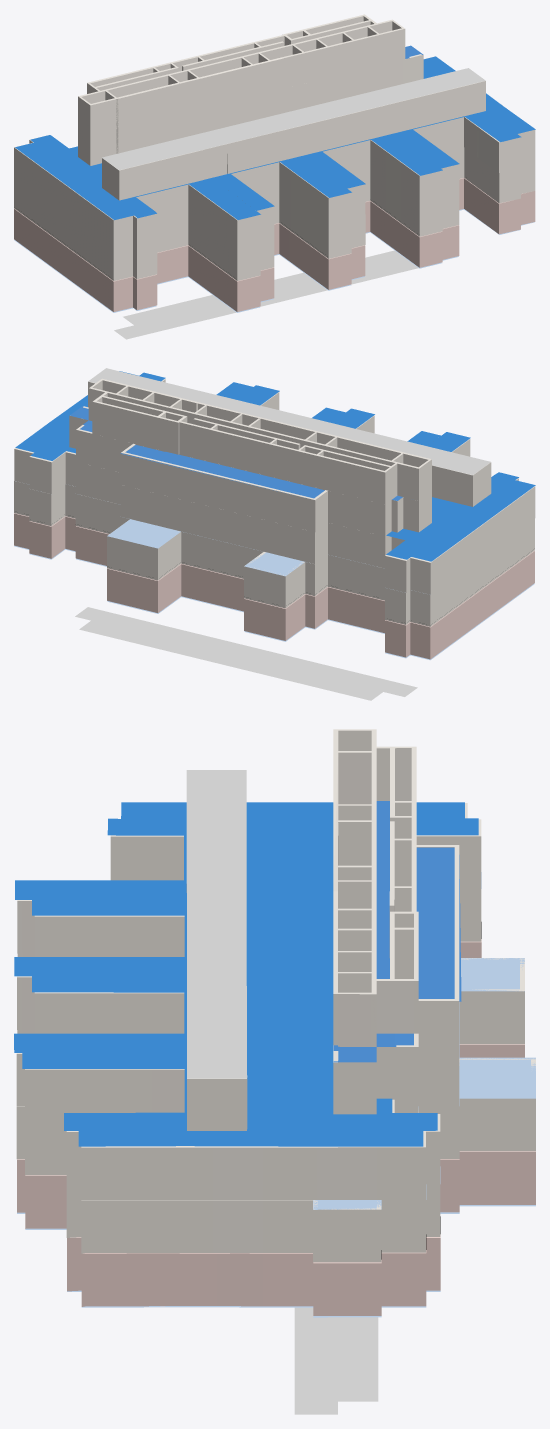
The model's file is Våning4.glb.
3 renders of one model, top to bottom at view 1: azimuth 30°, elevation 25°; view 2: azimuth 150°, elevation 25°; view 3: azimuth 270°, elevation 25°, orthographic. The views are drawn at different scales.
Parts seen in each view (by area): view 1: Plane.007, Plane.004, Plane.009, Plane, Plane.002, Plane.005, Plane.008, Plane.010, Plane.001; view 2: Plane.009, Plane.004, Plane.002, Plane, Plane.007, Plane.005, Plane.010, Plane.008, Plane.011, Plane.006, Plane.001; view 3: Plane.005, Plane.004, Plane.002, Plane, Plane.009, Plane.008, Plane.007, Plane.011, Plane.010, Plane.006, Plane.001.
Boxes of the visible parts, x1,y1,x2,y2 form: Plane.007: [78, 54, 485, 200]; Plane.004: [14, 56, 535, 250]; Plane.009: [78, 14, 405, 135]; Plane: [14, 178, 535, 311]; Plane.002: [14, 147, 535, 280]; Plane.005: [15, 56, 535, 220]; Plane.008: [102, 68, 485, 170]; Plane.010: [114, 250, 418, 339]; Plane.001: [14, 209, 534, 312]; Plane.009: [88, 378, 431, 504]; Plane.004: [14, 379, 535, 594]; Plane.002: [14, 481, 534, 626]; Plane: [14, 513, 534, 659]; Plane.007: [69, 381, 491, 536]; Plane.005: [15, 371, 535, 561]; Plane.010: [75, 607, 417, 700]; Plane.008: [88, 368, 490, 474]; Plane.011: [70, 406, 402, 500]; Plane.006: [107, 519, 423, 593]; Plane.001: [14, 546, 534, 660]; Plane.005: [14, 802, 478, 1146]; Plane.004: [16, 803, 481, 1199]; Plane.002: [16, 889, 535, 1262]; Plane: [17, 939, 535, 1315]; Plane.009: [333, 729, 418, 1046]; Plane.008: [186, 770, 246, 1078]; Plane.007: [186, 845, 459, 1130]; Plane.011: [333, 801, 461, 1062]; Plane.010: [294, 1307, 378, 1414]; Plane.006: [313, 872, 535, 1209]; Plane.001: [17, 1205, 535, 1317].
Bounding box in the file's own units: 346 × 182 × 215.
